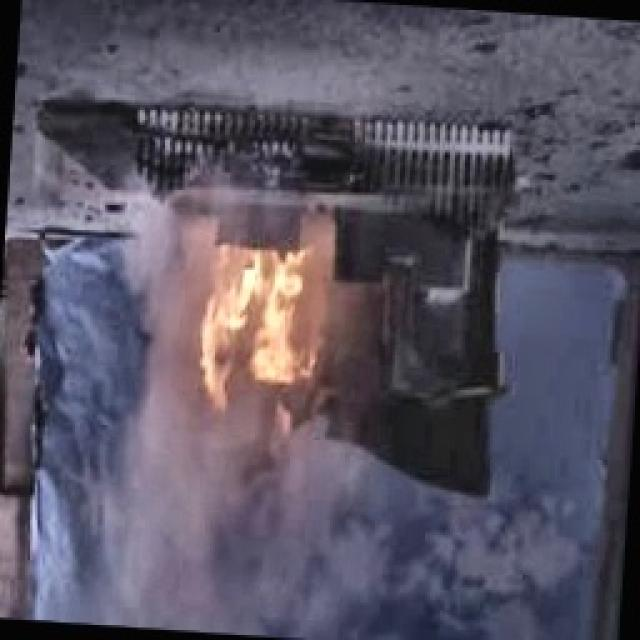fire: (188, 231, 330, 421)
